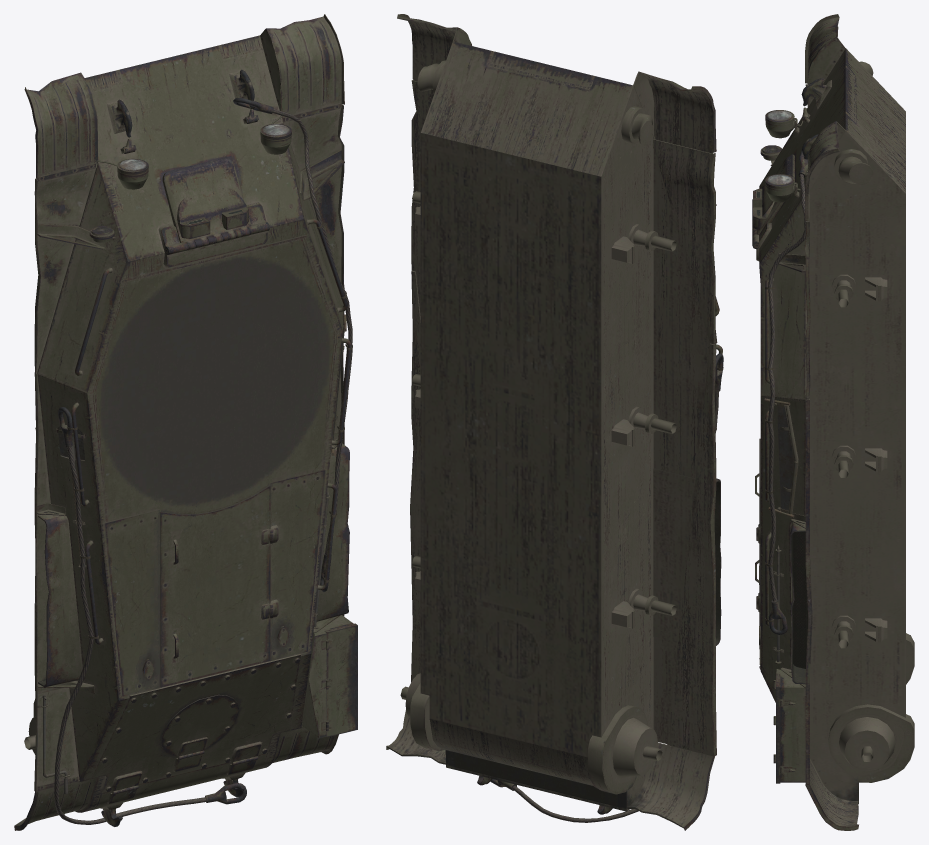
File: Hull.glb
3 renders of one model, left to right at view 1: azimuth 30°, elevation 25°; view 2: azimuth 150°, elevation 25°; view 3: azimuth 270°, elevation 25°, orthographic. The views are drawn at different scales.
Parts seen in each view (by area): view 1: set_0_group_0; view 2: set_0_group_0; view 3: set_0_group_0.
Part boxes in pixels (x1,y1,x2,y2): set_0_group_0: (14,14,357,830); set_0_group_0: (386,14,723,830); set_0_group_0: (752,14,914,830).
Bounding box in the file's own units: 2.52 × 5.96 × 1.25.
1 material, 1 textured.
